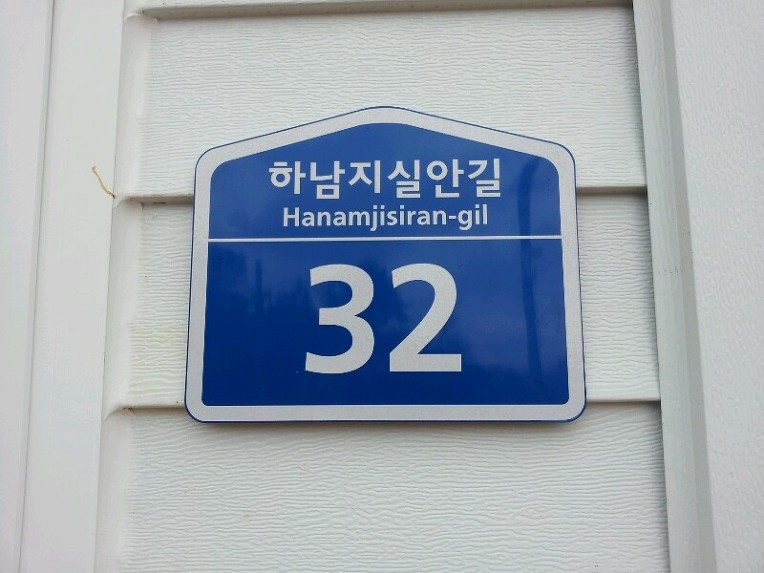building_license_plate1: (186, 103, 587, 426)
